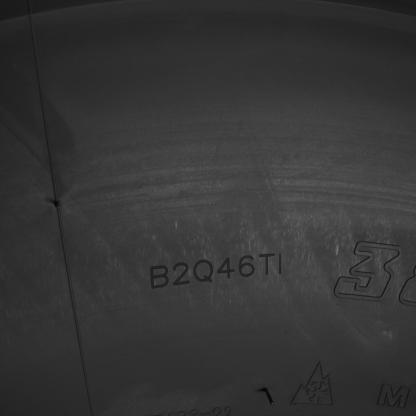ocr: (149, 251, 285, 292)
